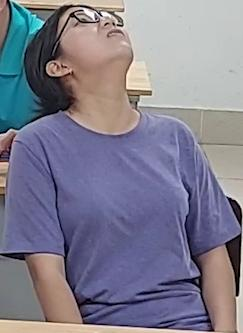Turning_Around: (16, 3, 230, 309)
